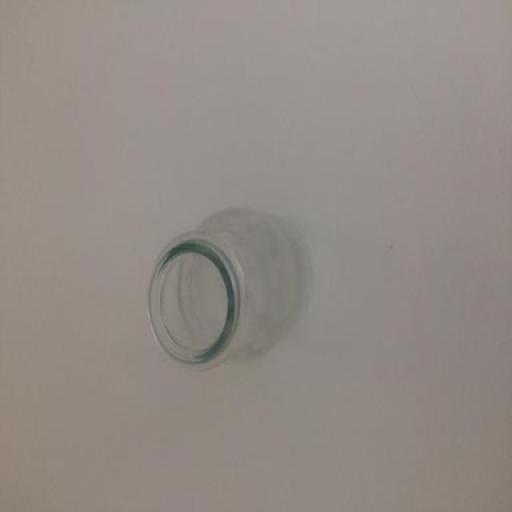glass: (138, 188, 331, 396)
